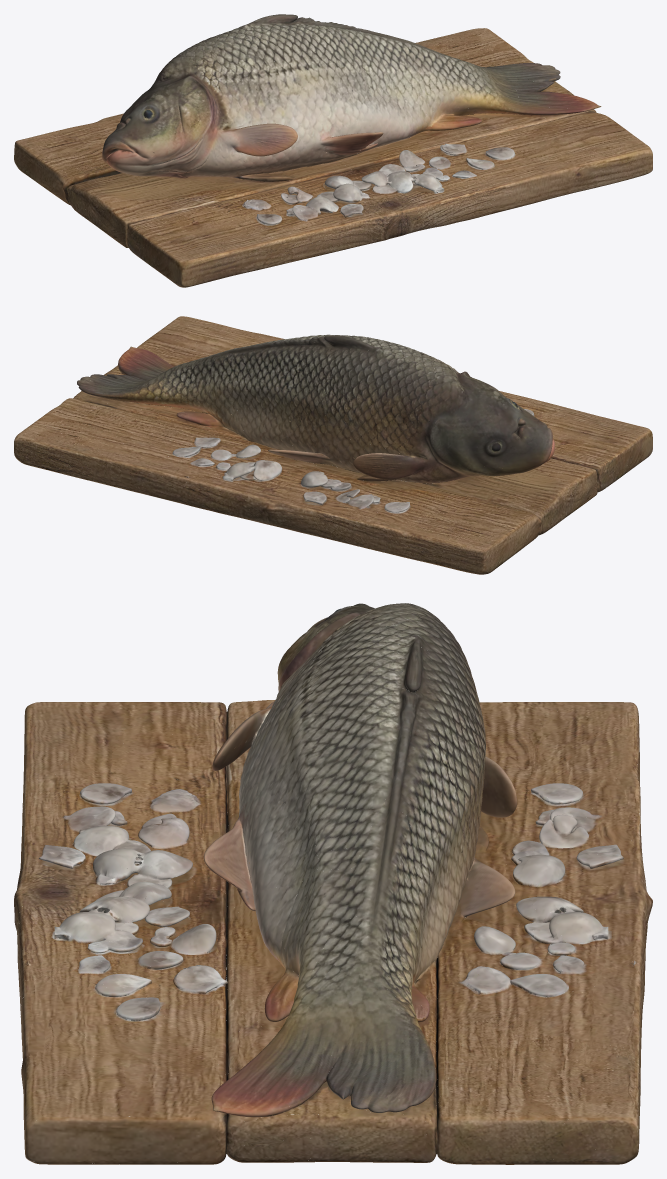
Rendered from kosher-fish.glb.
3 views of the same model, one above another, from view 1: azimuth 30°, elevation 25°; view 2: azimuth 150°, elevation 25°; view 3: azimuth 270°, elevation 25° (orthographic). The views are drawn at different scales.
Visible parts, largest first — view 1: tripo_node_93c26ffc-9985-4cd7-9676-2033b858a639; view 2: tripo_node_93c26ffc-9985-4cd7-9676-2033b858a639; view 3: tripo_node_93c26ffc-9985-4cd7-9676-2033b858a639.
Part boxes in pixels (<box>): tripo_node_93c26ffc-9985-4cd7-9676-2033b858a639: <box>14,14,652,287</box>; tripo_node_93c26ffc-9985-4cd7-9676-2033b858a639: <box>14,316,652,574</box>; tripo_node_93c26ffc-9985-4cd7-9676-2033b858a639: <box>14,603,652,1164</box>.
Bounding box in the file's own units: 0.9825 × 0.2914 × 0.6258.
Materials: 1 (1 with a texture image).
